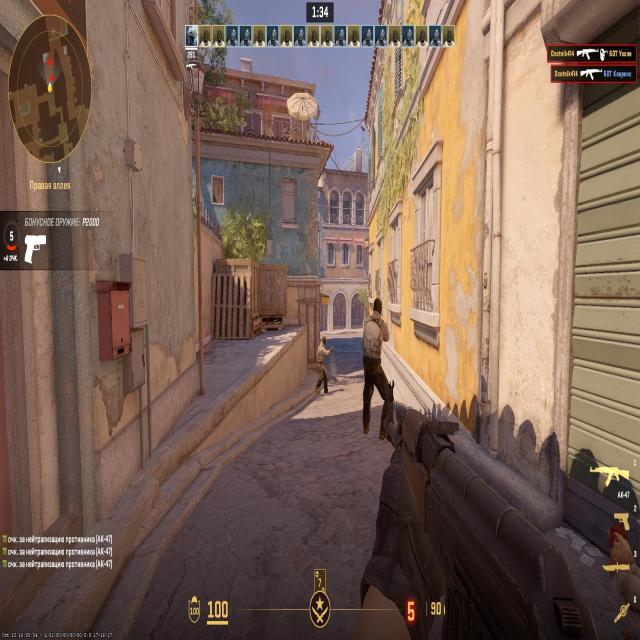T: (368, 300, 384, 408), (315, 340, 328, 385)
T_heat: (374, 314, 380, 328), (322, 341, 324, 352)
